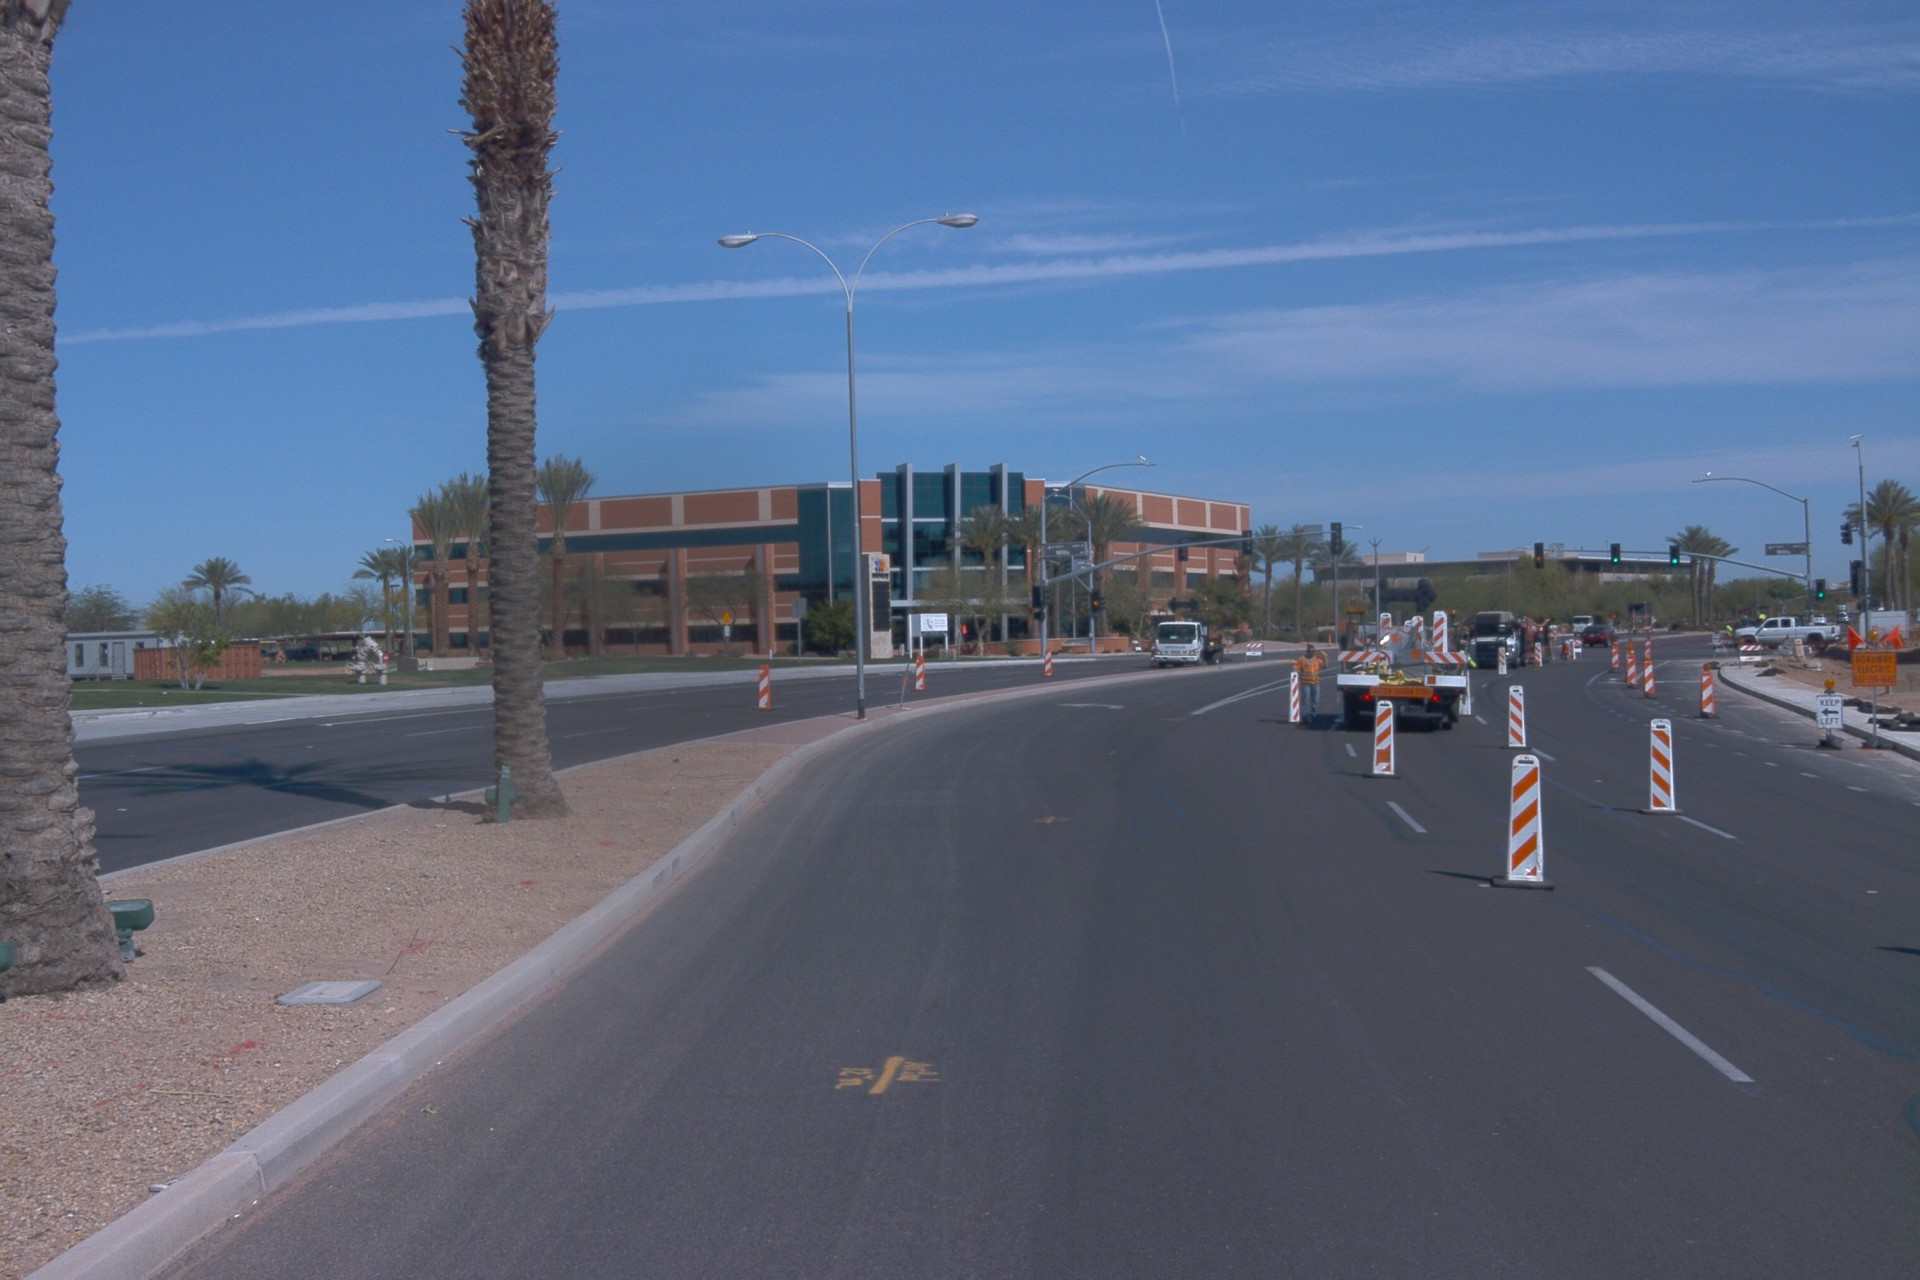TYPE_PEDESTRIAN: (1293, 645, 1330, 726), (1458, 640, 1480, 675)
TYPE_VEHICLE: (1327, 576, 1480, 737), (1460, 608, 1555, 670), (1143, 614, 1234, 670), (1729, 616, 1845, 658), (1579, 624, 1620, 655), (1570, 611, 1606, 638)
